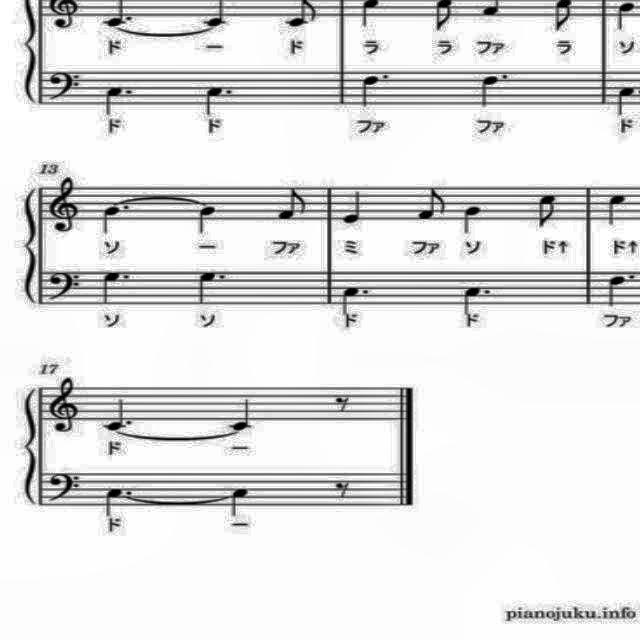Bass-clef: (41, 267, 84, 309), (44, 66, 88, 106), (46, 466, 86, 506)
Eighth-note: (274, 186, 314, 226), (414, 185, 451, 223), (531, 191, 563, 231)
Eighth-rest: (330, 473, 358, 503), (331, 388, 353, 420)
Quarter-dot: (476, 68, 516, 112), (190, 270, 230, 310), (96, 84, 138, 120), (100, 398, 140, 434), (98, 269, 132, 309), (356, 71, 392, 107), (194, 82, 234, 114), (605, 268, 635, 310), (100, 200, 132, 236), (460, 282, 490, 318), (100, 486, 136, 516), (342, 282, 371, 318)
Quarter-note: (342, 188, 371, 228), (601, 191, 631, 229), (228, 395, 256, 433), (227, 486, 256, 522), (610, 82, 638, 118), (198, 202, 224, 238), (460, 201, 484, 239)
Treble-clef: (42, 174, 90, 236), (43, 374, 85, 434)
